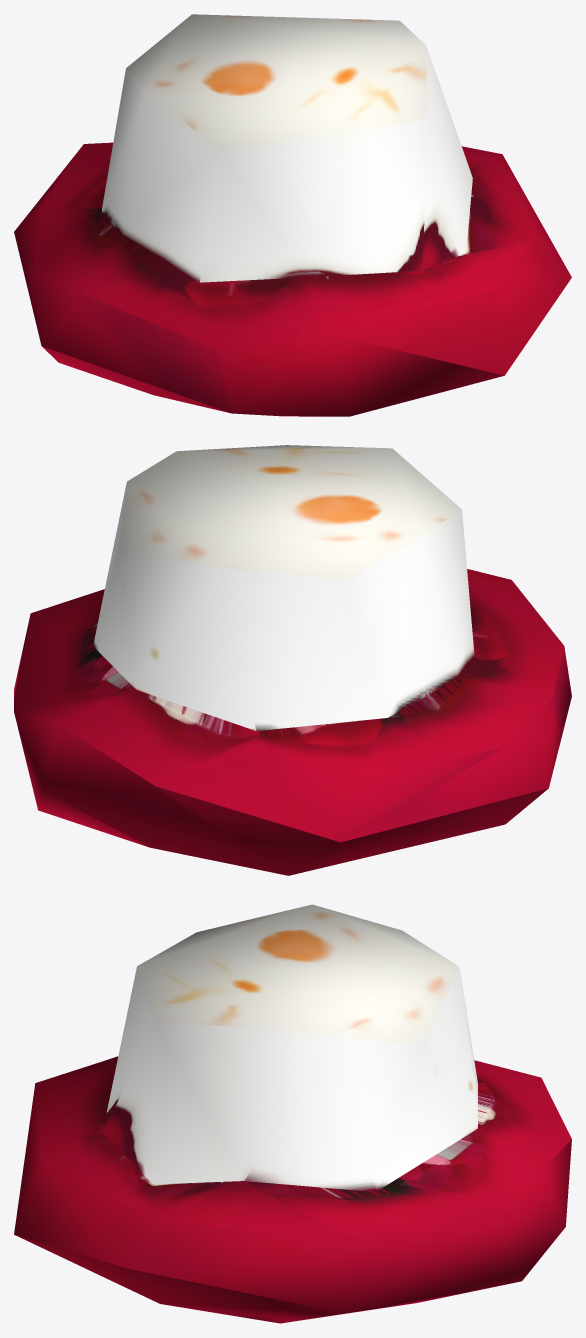
File: tooth1_0.1.fbx
The picture shows the model from 3 angles, top to bottom: view 1: azimuth 30°, elevation 25°; view 2: azimuth 150°, elevation 25°; view 3: azimuth 270°, elevation 25°; orthographic projection. The views are drawn at different scales.
Visible parts, largest first — view 1: temp; view 2: temp; view 3: temp.
Boxes of the visible parts, x1,y1,x2,y2 form: temp: (14, 14, 571, 416); temp: (14, 445, 571, 875); temp: (14, 904, 571, 1323).
Bounding box in the file's own units: 1.93 × 1.11 × 1.91.
1 material, 1 textured.
